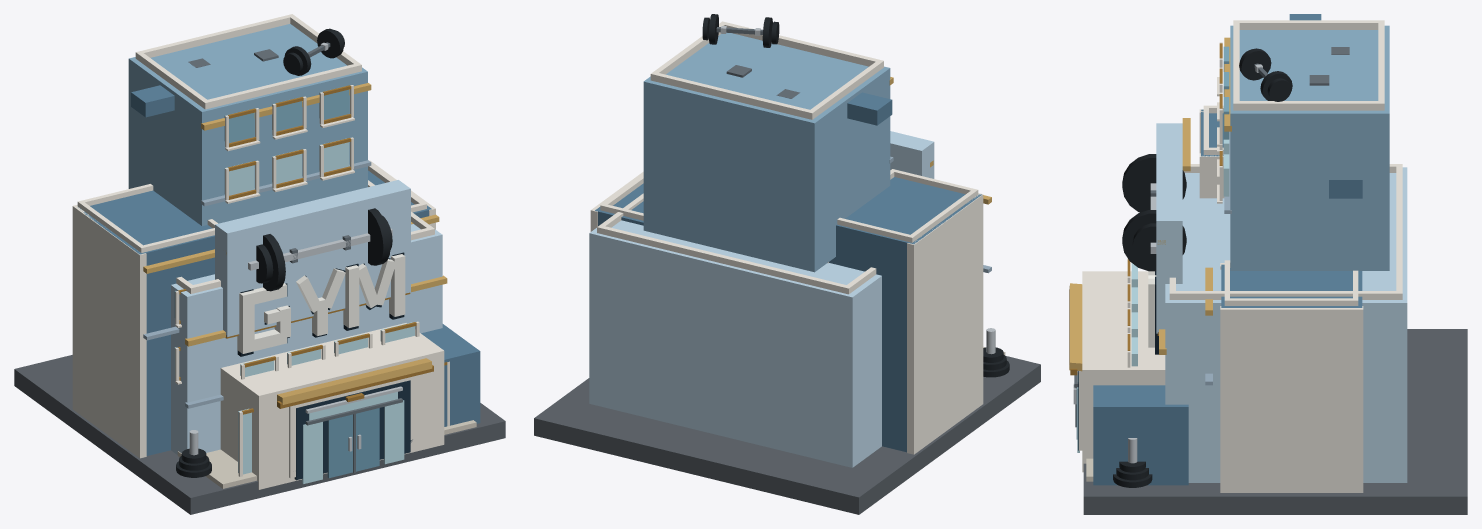
Rendered from gym-building.glb.
3 views of the same model, side by side, from view 1: azimuth 30°, elevation 25°; view 2: azimuth 150°, elevation 25°; view 3: azimuth 270°, elevation 25° (orthographic). The views are drawn at different scales.
Parts seen in each view (by area): view 1: gym_building; view 2: gym_building; view 3: gym_building.
Part boxes in pixels (x1=…): gym_building: x1=14, y1=14, x2=505, y2=514; gym_building: x1=534, y1=14, x2=1040, y2=514; gym_building: x1=1069, y1=14, x2=1467, y2=514.
Size of the model in its own units: 11.3 by 12.47 by 11.36.
